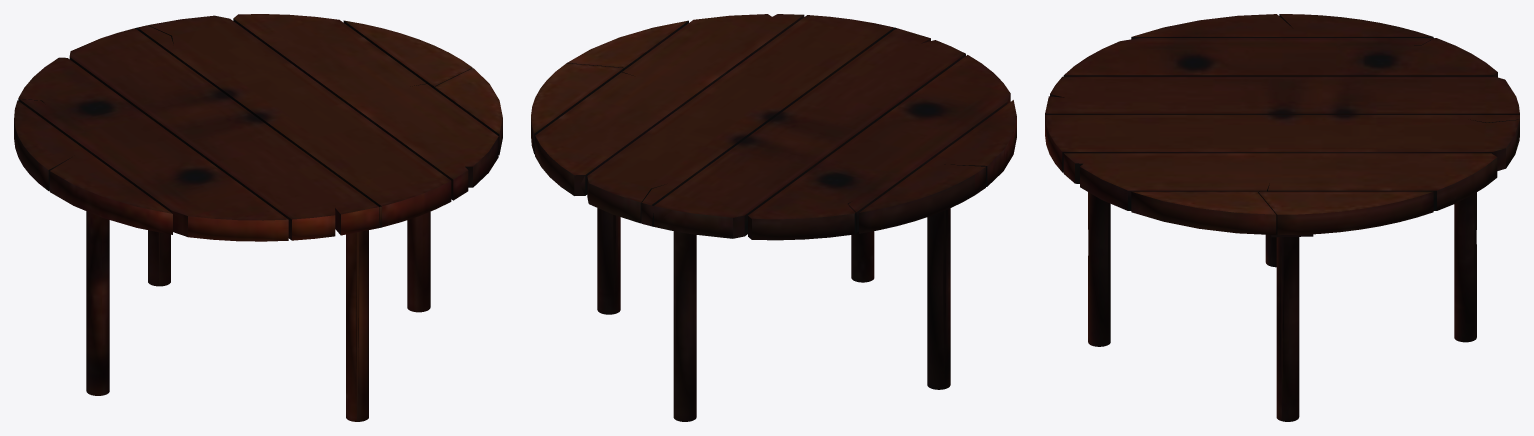
File: bar ivan moro tavolo rotondo.glb
The picture shows the model from 3 angles, left to right: view 1: azimuth 30°, elevation 25°; view 2: azimuth 150°, elevation 25°; view 3: azimuth 270°, elevation 25°; orthographic projection. The views are drawn at different scales.
Parts seen in each view (by area): view 1: Object_32.001; view 2: Object_32.001; view 3: Object_32.001.
Boxes of the visible parts, box(x1,y1,x2,y2) form: Object_32.001: box(14, 14, 502, 421); Object_32.001: box(531, 14, 1016, 421); Object_32.001: box(1045, 14, 1519, 421).
Bounding box in the file's own units: 1.6 × 0.8356 × 1.6.
1 material, 1 textured.
